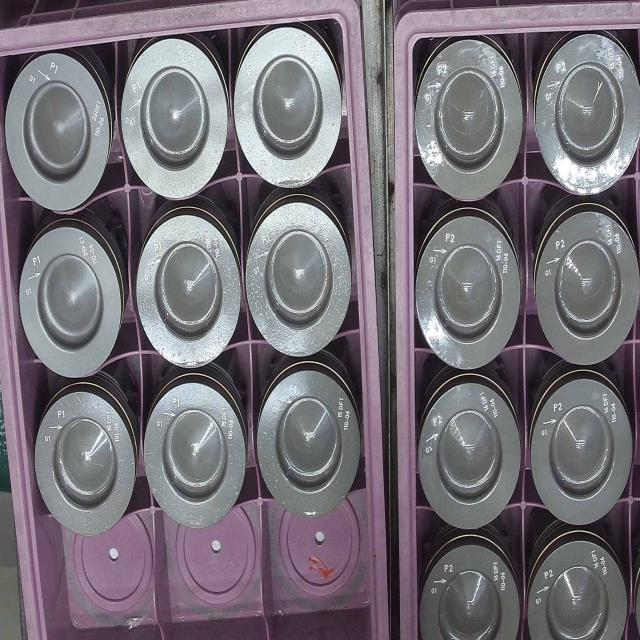P1: (119, 36, 233, 204), (4, 54, 112, 210), (245, 198, 351, 356), (232, 29, 342, 181), (18, 224, 124, 378), (255, 360, 358, 514), (146, 377, 246, 524), (136, 221, 240, 362), (34, 386, 133, 534)
P2: (408, 209, 521, 371), (418, 38, 520, 200), (527, 377, 628, 533), (543, 45, 640, 204), (419, 379, 518, 532), (538, 221, 636, 369), (424, 539, 523, 640), (533, 544, 630, 640)
